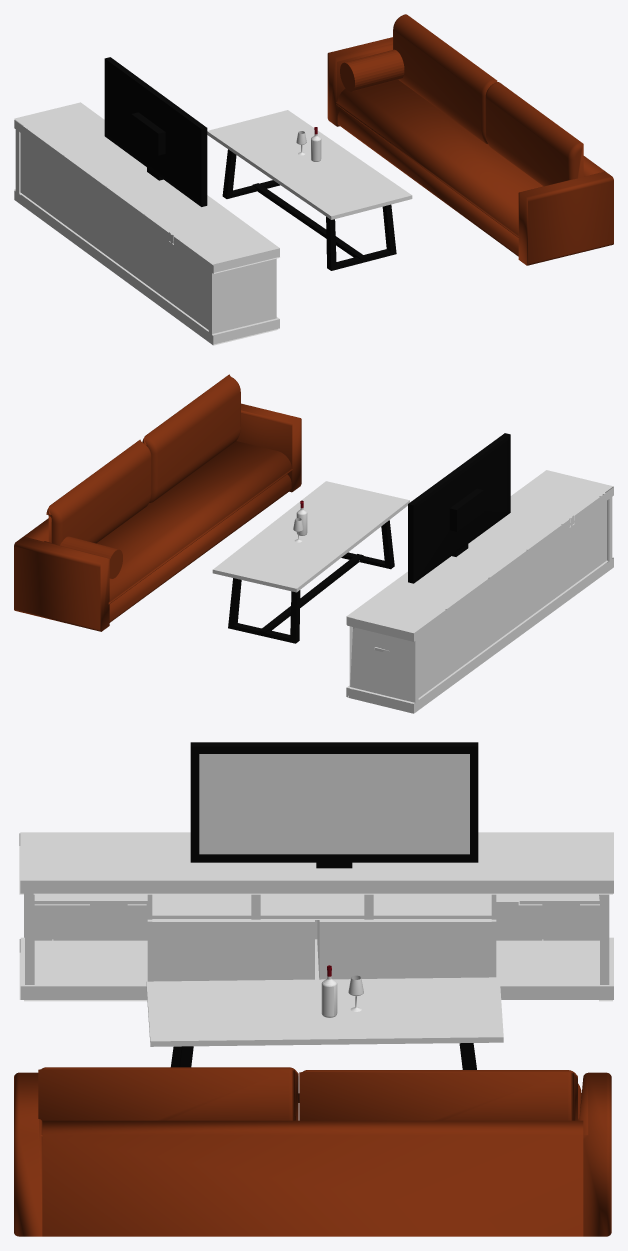
3 views of the same model, one above another, from view 1: azimuth 30°, elevation 25°; view 2: azimuth 150°, elevation 25°; view 3: azimuth 270°, elevation 25° (orthographic). The views are drawn at different scales.
Parts seen in each view (by area): view 1: tv counter, back of the tv counter, table, sofa top part, couch side, tv, cusion 1, cusion 1.001, sofa bottom part, Cylinder; view 2: back of the tv counter, table, tv counter, sofa top part, couch side, tv, cusion 1.001, cusion 1, sofa bottom part, Cylinder; view 3: tv counter, couch side, tv, table, cusion 1, cusion 1.001, back of the tv counter, wine bottle.
Boxes of the visible parts, x1,y1,x2,y2 form: tv counter: (14,102,279,344); back of the tv counter: (14,119,279,345); table: (207,110,412,270); sofa top part: (336,80,543,237); couch side: (327,37,613,265); tv: (104,57,207,206); cusion 1: (393,14,497,143); cusion 1.001: (485,82,583,186); sofa bottom part: (337,109,518,256); Cylinder: (340,49,404,91); back of the tv counter: (347,487,613,713); table: (212,481,409,643); tv counter: (346,470,613,703); sofa top part: (96,441,292,604); couch side: (14,403,301,631); tv: (408,433,510,583); cusion 1.001: (142,374,240,502); cusion 1: (46,439,151,545); sofa bottom part: (109,474,291,622); Cylinder: (60,536,122,578); tv counter: (20,832,613,999); couch side: (14,1072,611,1236); tv: (190,742,478,868); table: (146,977,503,1102); cusion 1: (299,1070,577,1120); cusion 1.001: (38,1067,298,1120); back of the tv counter: (19,833,612,1001); wine bottle: (321,965,337,1017).
Size of the model in its own units: 12.25 by 4.89 by 10.72.
